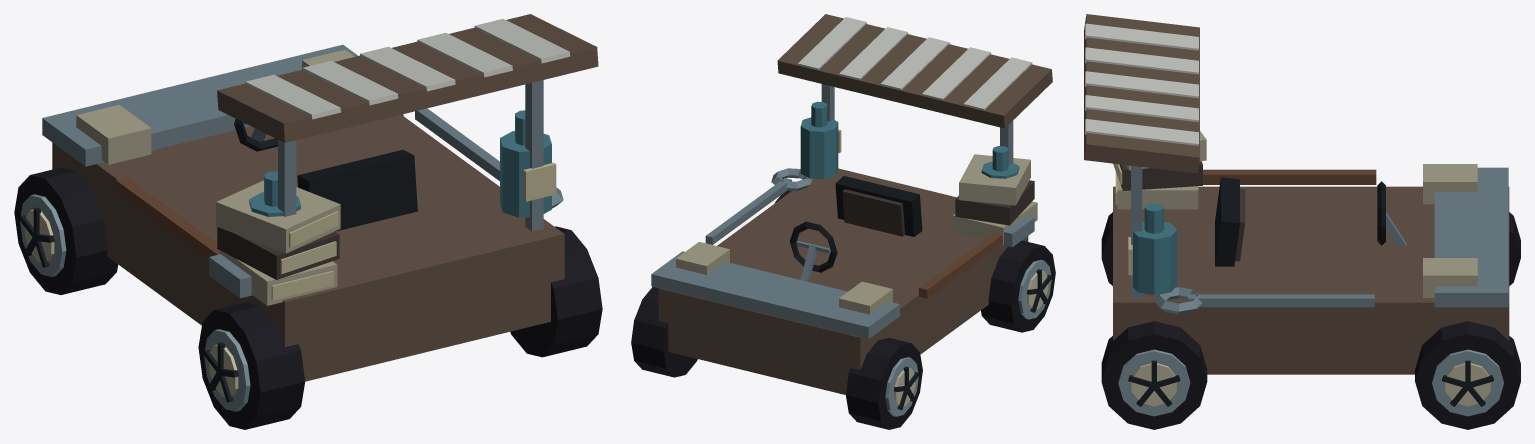
Rendered from kart.glb.
The picture shows the model from 3 angles, left to right: view 1: azimuth 30°, elevation 25°; view 2: azimuth 150°, elevation 25°; view 3: azimuth 270°, elevation 25°; orthographic projection. The views are drawn at different scales.
Visible parts, largest first — view 1: identity-food-cart-food-cart-counter-and-awning, identity-food-cart-motif-books, wheel-rear-left, wheel-front-left, identity-food-cart-driver-cockpit, wheel-rear-right, identity-food-cart-motif-tools, identity-food-cart-motif-bottles; view 2: identity-food-cart-food-cart-counter-and-awning, wheel-front-left, identity-food-cart-driver-cockpit, wheel-rear-left, identity-food-cart-motif-books, identity-food-cart-motif-tools, identity-food-cart-motif-bottles, wheel-front-right; view 3: identity-food-cart-food-cart-counter-and-awning, wheel-rear-right, wheel-front-right, identity-food-cart-motif-tools, identity-food-cart-motif-bottles, identity-food-cart-driver-cockpit, identity-food-cart-motif-books, wheel-front-left, wheel-rear-left.
Boxes of the visible parts, x1,y1,x2,y2 form: identity-food-cart-food-cart-counter-and-awning: (42, 14, 598, 381); identity-food-cart-motif-books: (216, 180, 340, 305); wheel-rear-left: (198, 302, 305, 429); wheel-front-left: (14, 167, 118, 294); identity-food-cart-driver-cockpit: (234, 119, 417, 231); wheel-rear-right: (510, 226, 602, 357); identity-food-cart-motif-tools: (115, 108, 563, 298); identity-food-cart-motif-bottles: (249, 110, 556, 217); identity-food-cart-food-cart-counter-and-awning: (651, 14, 1052, 394); wheel-front-left: (846, 338, 922, 429); identity-food-cart-driver-cockpit: (789, 176, 922, 281); wheel-rear-left: (981, 240, 1055, 332); identity-food-cart-motif-books: (952, 154, 1037, 245); identity-food-cart-motif-tools: (705, 168, 1034, 298); identity-food-cart-motif-bottles: (800, 101, 1019, 179); wheel-front-right: (631, 287, 697, 377); identity-food-cart-food-cart-counter-and-awning: (1084, 14, 1509, 374); wheel-rear-right: (1101, 321, 1207, 429); wheel-front-right: (1415, 321, 1520, 429); identity-food-cart-motif-tools: (1154, 169, 1376, 314); identity-food-cart-motif-bottles: (1128, 203, 1177, 295); identity-food-cart-driver-cockpit: (1215, 177, 1406, 266); identity-food-cart-motif-books: (1113, 131, 1206, 209); wheel-front-left: (1509, 212, 1520, 285); wheel-rear-left: (1101, 212, 1112, 285).
Bounding box in the file's own units: 2.03 × 1.76 × 2.48.
